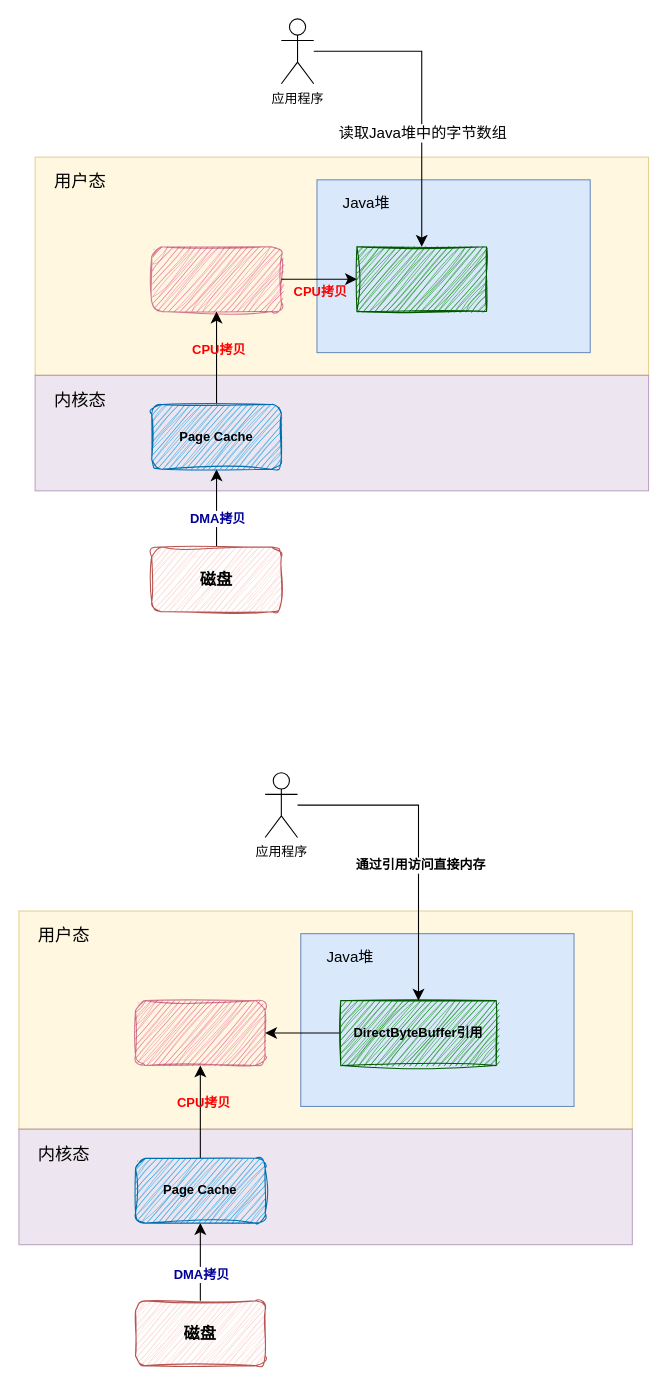
This 667x1385 diagram has some shape labels left out. The box of each missing label's shape, as (x1, y1, x2, y2) in pixels:
byte[] 对象: (356, 246, 487, 312)
Direct Memory: (134, 1000, 265, 1065)
堆外内存: (151, 246, 281, 312)
